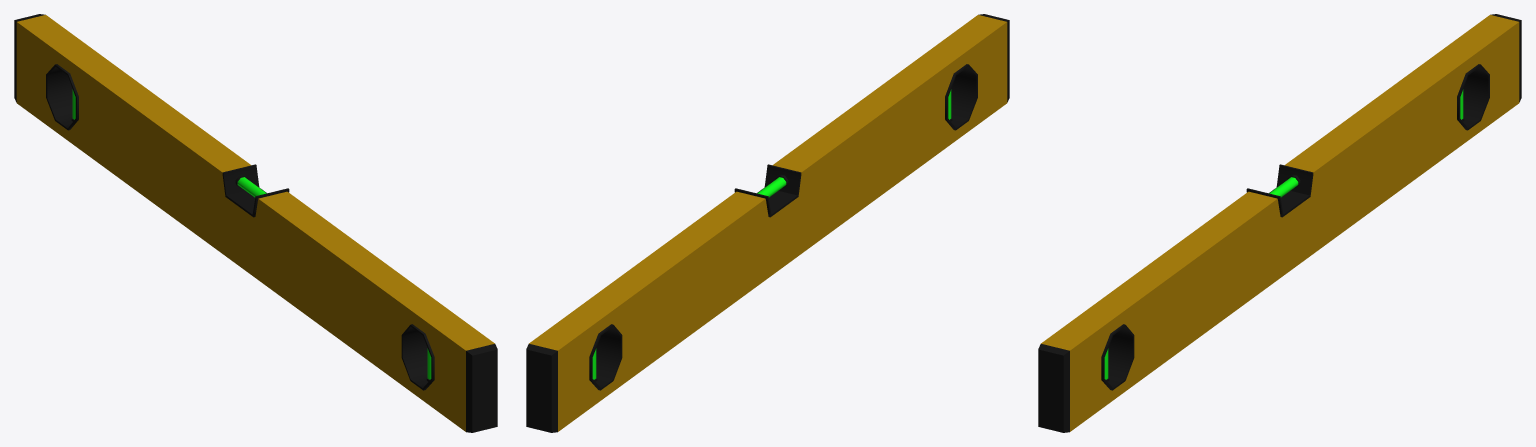
File: SpiritLevel.fbx
3 views of the same model, side by side, from view 1: azimuth 30°, elevation 25°; view 2: azimuth 150°, elevation 25°; view 3: azimuth 330°, elevation 25° (orthographic).
Visible parts, largest first — view 1: SpiritLevel; view 2: SpiritLevel; view 3: SpiritLevel.
Boxes of the visible parts, box(x1,y1,x2,y2) form: SpiritLevel: box(14, 14, 497, 432); SpiritLevel: box(526, 14, 1009, 432); SpiritLevel: box(1038, 14, 1521, 432).
Size of the model in its own units: 0.0344 by 0.082 by 0.816.
